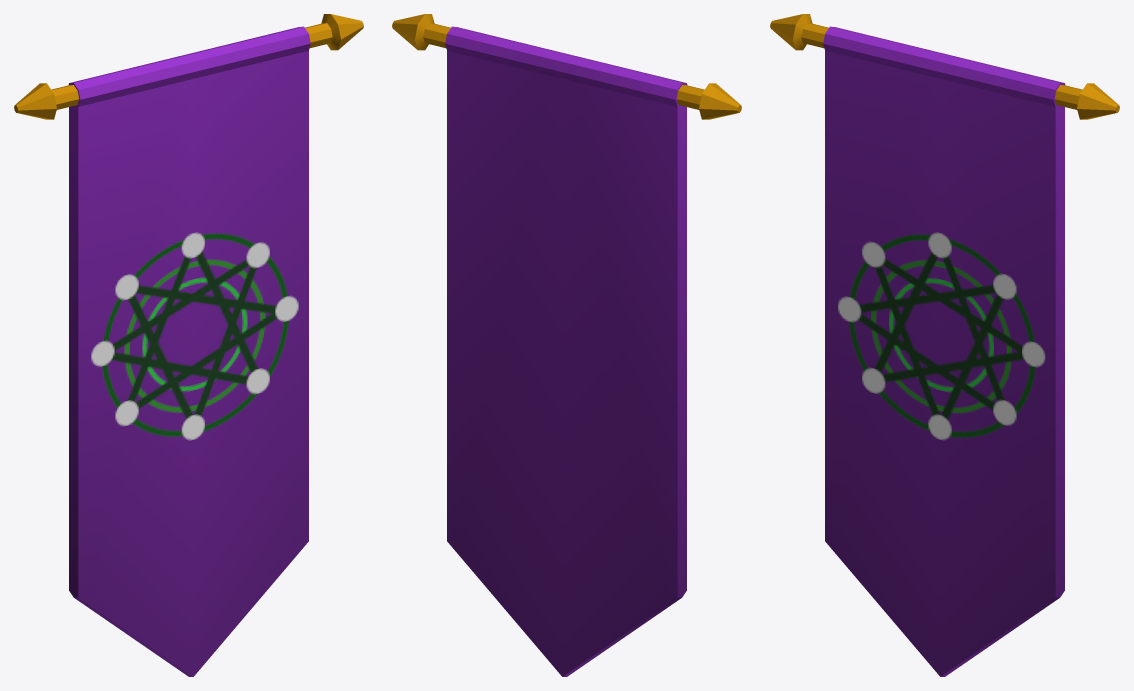
The model's file is CrestBanner.fbx.
3 renders of one model, left to right at view 1: azimuth 30°, elevation 25°; view 2: azimuth 150°, elevation 25°; view 3: azimuth 330°, elevation 25°, orthographic.
Visible parts, largest first — view 1: Banner; view 2: Banner; view 3: Banner.
Part boxes in pixels (x1,y1,x2,y2): Banner: [14, 14, 363, 676]; Banner: [392, 14, 741, 676]; Banner: [770, 14, 1119, 676].
Bounding box in the file's own units: 15 × 26.06 × 1.51.
1 material, 1 textured.
